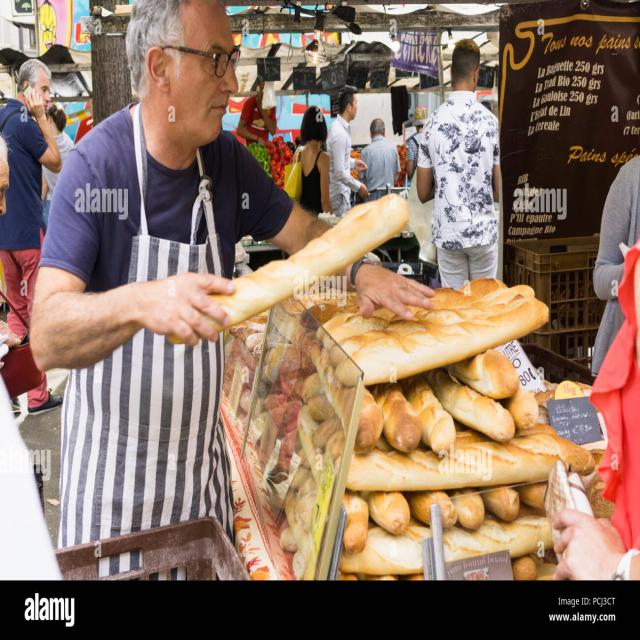Baguette: (211, 195, 409, 327), (338, 285, 548, 386), (425, 370, 514, 440), (403, 376, 455, 453), (446, 349, 519, 399), (377, 384, 421, 453)
